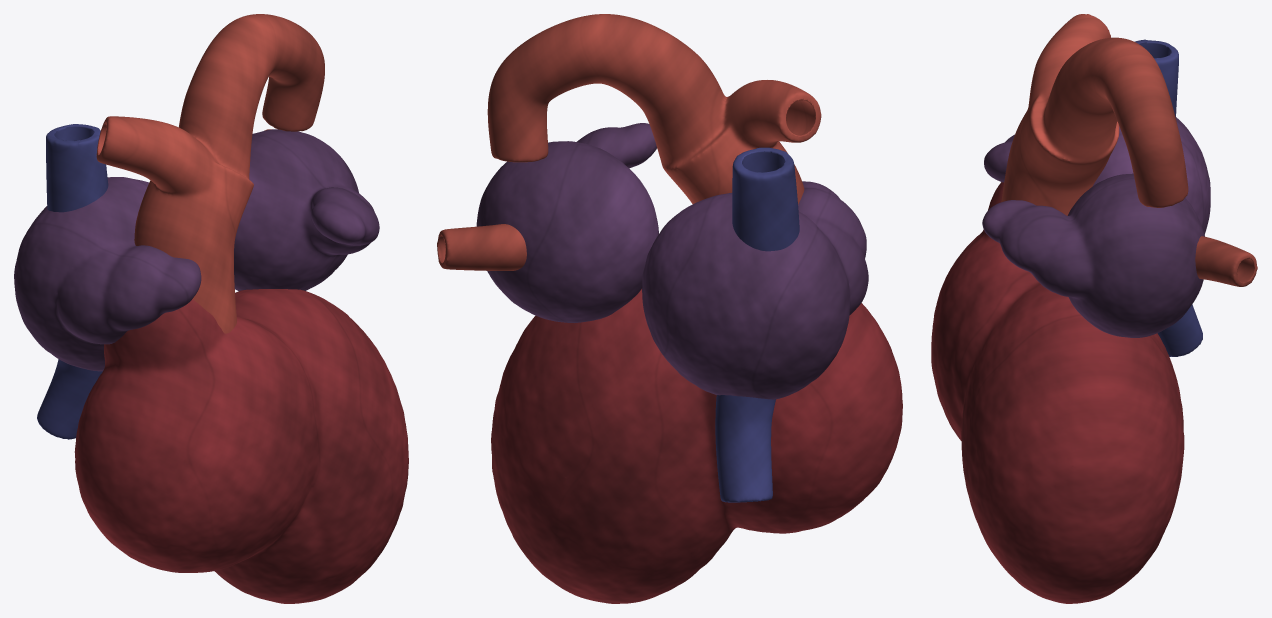
The model's file is WholeHeart_02_Weeks05-06_Remodeling.glb.
3 views of the same model, side by side, from view 1: azimuth 30°, elevation 25°; view 2: azimuth 150°, elevation 25°; view 3: azimuth 270°, elevation 25° (orthographic). The views are drawn at different scales.
Parts seen in each view (by area): view 1: VentricularMyocardium, RemodelingOutflow, RightAtriumAndAuricle, LeftAtriumAndAuricle, RightVenousInflow; view 2: VentricularMyocardium, RightAtriumAndAuricle, RemodelingOutflow, LeftAtriumAndAuricle, RightVenousInflow, CommonPulmonaryVein; view 3: VentricularMyocardium, RemodelingOutflow, LeftAtriumAndAuricle, RightAtriumAndAuricle, RightVenousInflow, CommonPulmonaryVein.
Part boxes in pixels (box(x1,y1,x2,y2)): VentricularMyocardium: box(74, 289, 408, 603); RemodelingOutflow: box(96, 14, 324, 333); RightAtriumAndAuricle: box(14, 177, 201, 371); LeftAtriumAndAuricle: box(234, 129, 379, 290); RightVenousInflow: box(37, 124, 108, 439); VentricularMyocardium: box(491, 289, 902, 603); RightAtriumAndAuricle: box(642, 181, 868, 399); RemodelingOutflow: box(487, 14, 821, 204); LeftAtriumAndAuricle: box(476, 123, 658, 322); RightVenousInflow: box(715, 147, 799, 502); CommonPulmonaryVein: box(437, 224, 526, 270); VentricularMyocardium: box(931, 182, 1184, 603); RemodelingOutflow: box(1001, 14, 1188, 215); LeftAtriumAndAuricle: box(982, 173, 1204, 337); RightAtriumAndAuricle: box(984, 117, 1210, 234); RightVenousInflow: box(1134, 39, 1202, 356); CommonPulmonaryVein: box(1195, 236, 1257, 286).
Bounding box in the file's own units: 0.1261 × 0.1982 × 0.1084.
Materials: 4 (4 with a texture image).
